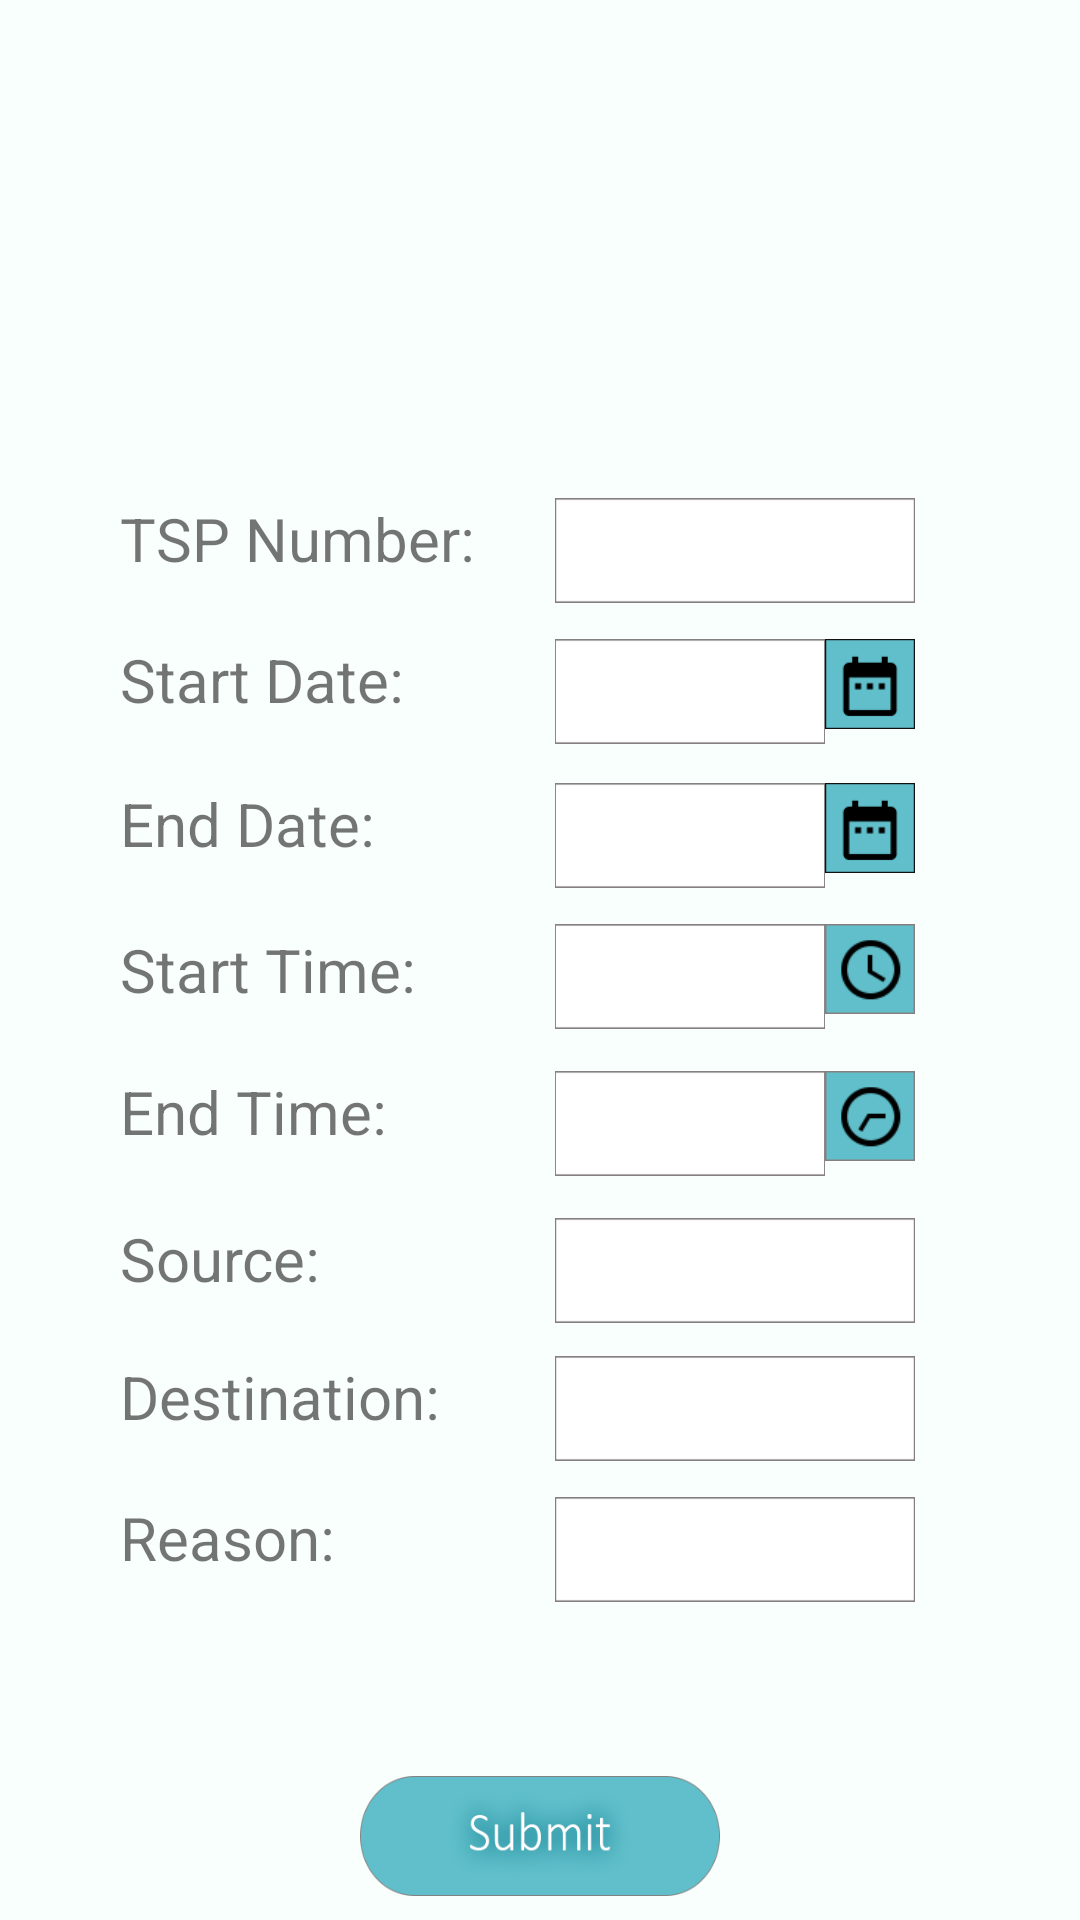

Where to tap for icons on this 1080×1920 app screen, as [x,y]:
calendar: [870,684], [870,828]
